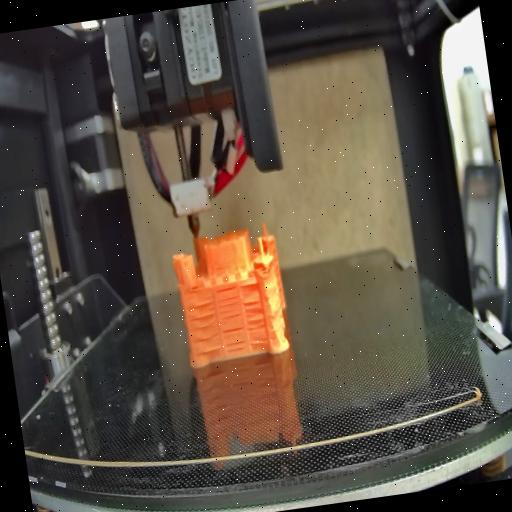cracks: (242, 296, 270, 347), (184, 300, 218, 330), (215, 286, 243, 320), (194, 332, 223, 358), (221, 325, 248, 351), (240, 278, 260, 290)
